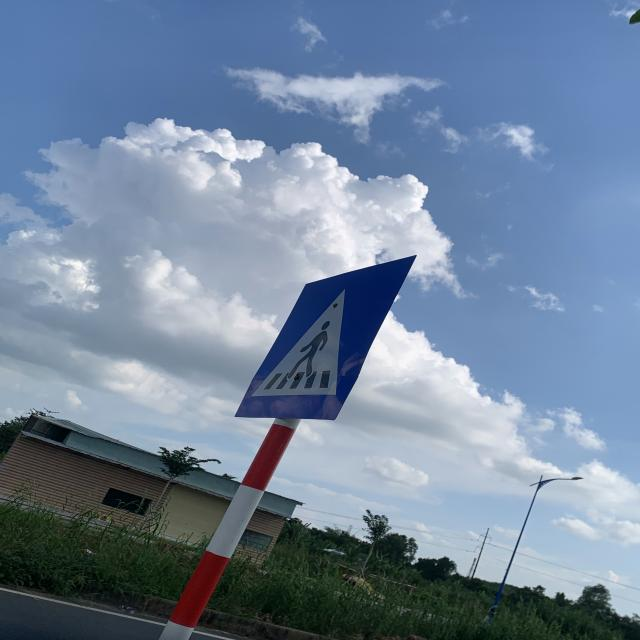Giao_Nhau_Duong_Uu_Tien: (235, 253, 418, 422)
